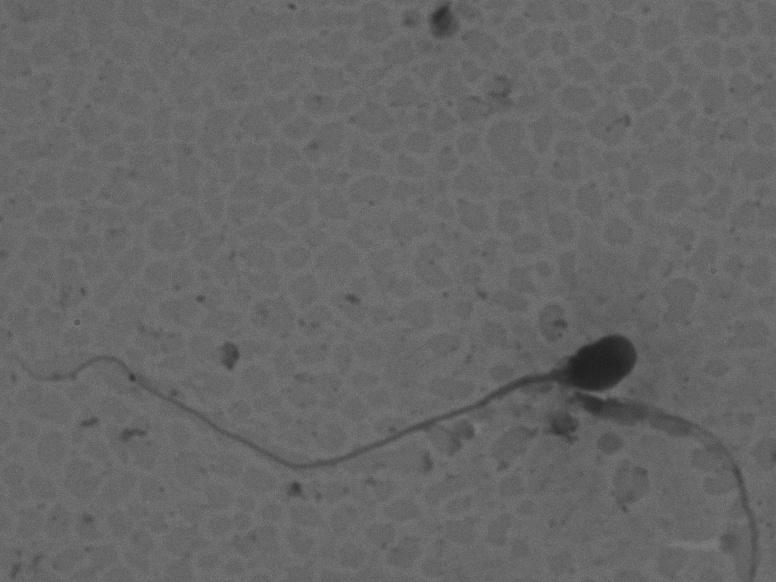Abnormal: (11, 300, 659, 478)
